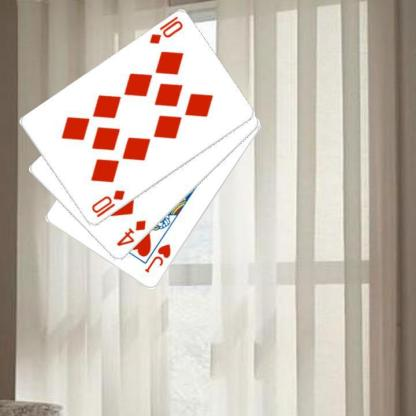10D: (88, 187, 126, 219), (147, 14, 184, 46)
4D: (114, 218, 147, 248)
JH: (142, 242, 172, 274)
